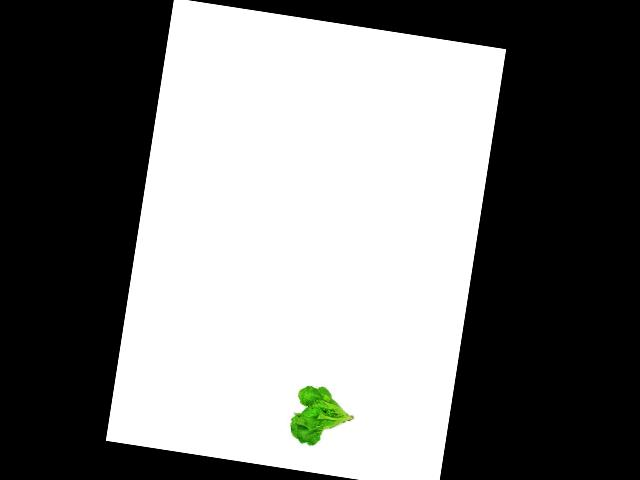lettuce: (283, 380, 359, 454)
